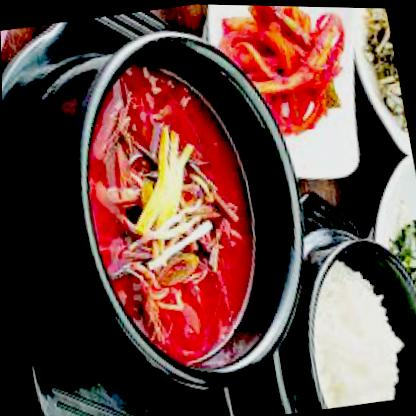rice ball: (282, 240, 414, 409)
spicy yuke jang: (57, 44, 291, 380)
